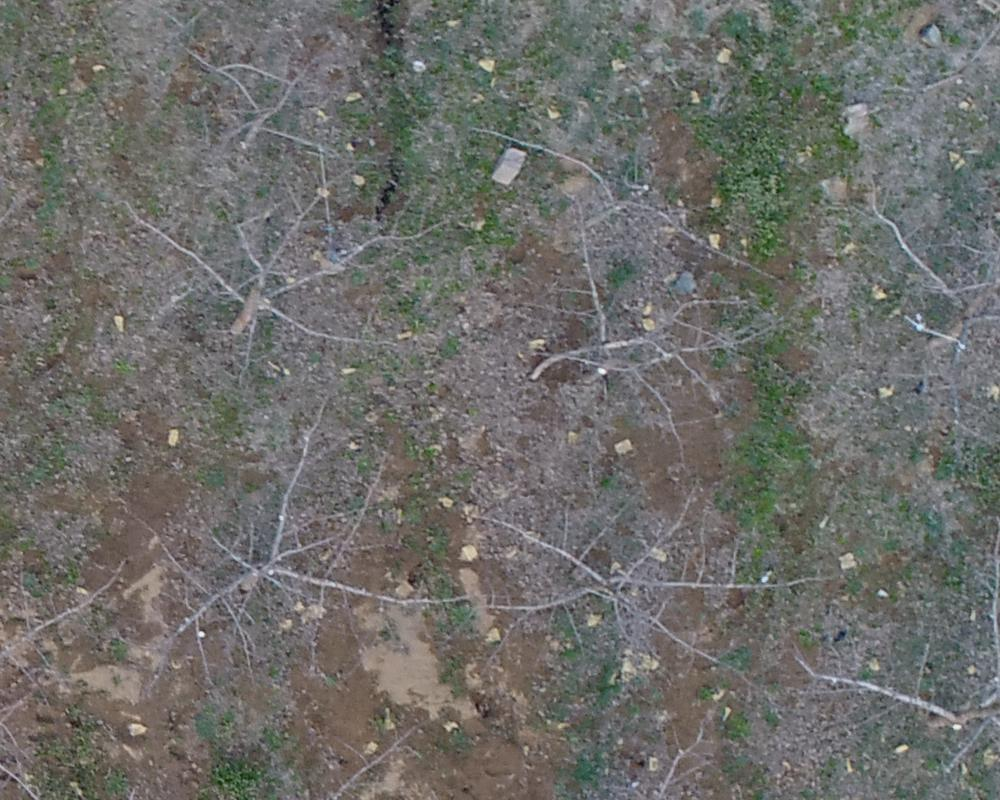apple: (158, 404, 462, 654), (453, 495, 807, 685), (127, 161, 427, 363), (471, 119, 783, 277), (802, 540, 990, 790), (846, 150, 990, 432), (529, 286, 780, 446), (152, 31, 347, 161)
